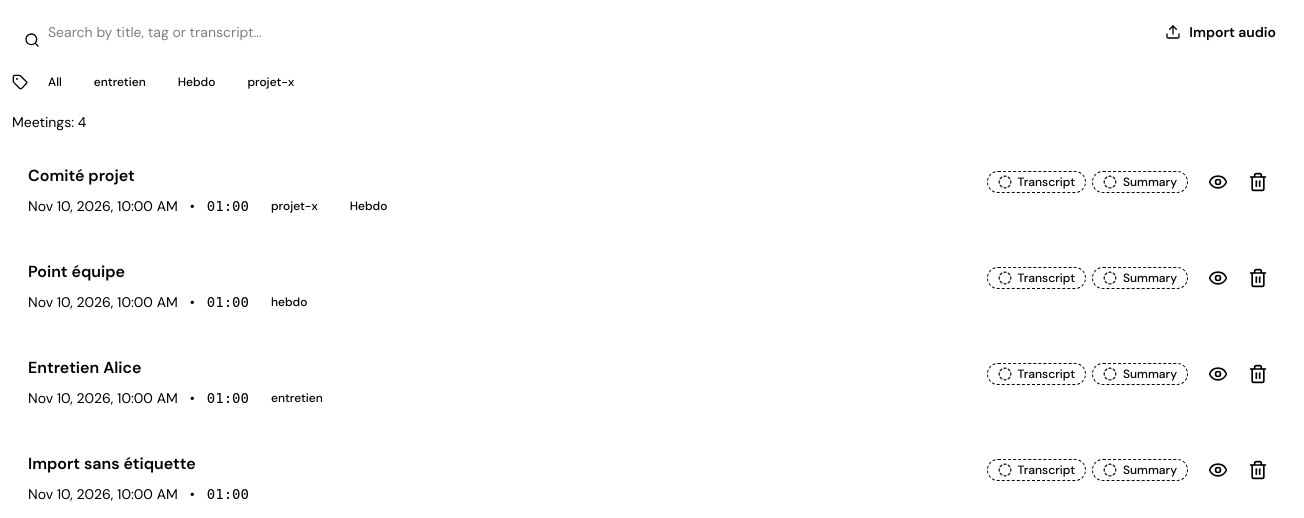
Test: RecordingsTab — étiquettes › se combine avec la recherche ; « Effacer les filtres » remet tout
Click the 1st button "projet-x" at (271, 82), box left=235, top=68, right=306, bottom=96
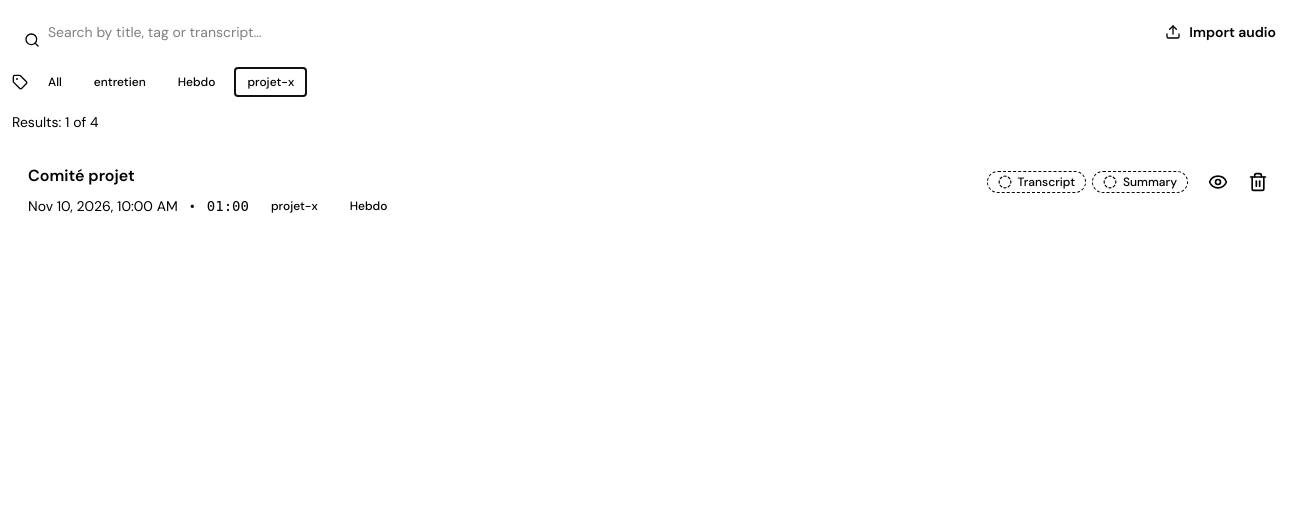
Type "alice" into the search field at (575, 32), box left=12, top=12, right=1137, bottom=52
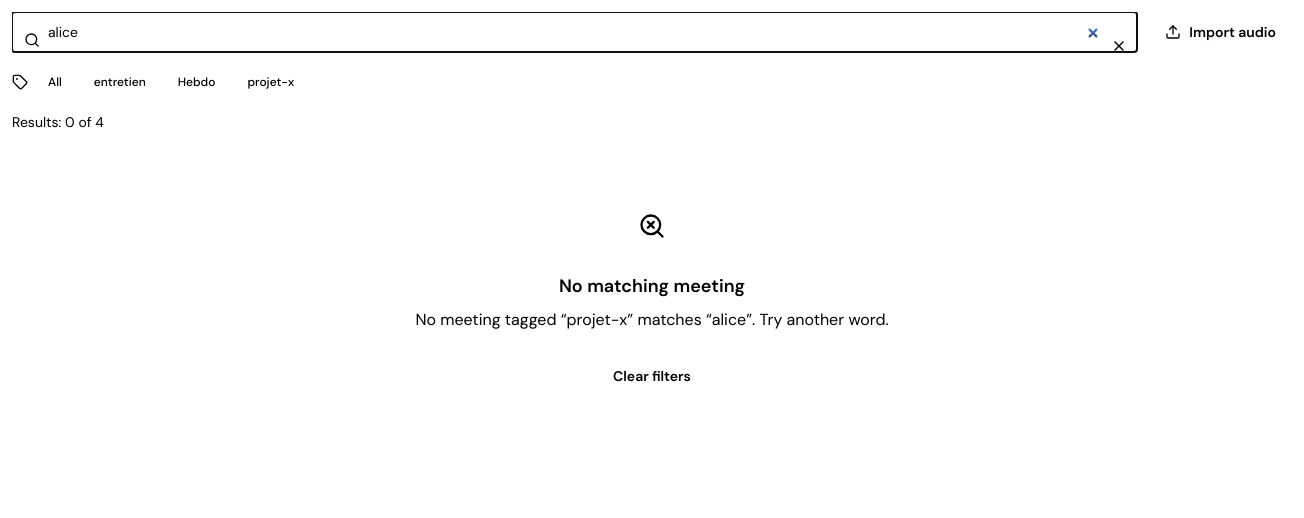
Now the text "No meeting tagged “projet-x” matches “alice”. Try another word." is shown, box left=415, top=309, right=889, bottom=330
Click the button "Clear filters" at (652, 376), box left=597, top=356, right=707, bottom=396
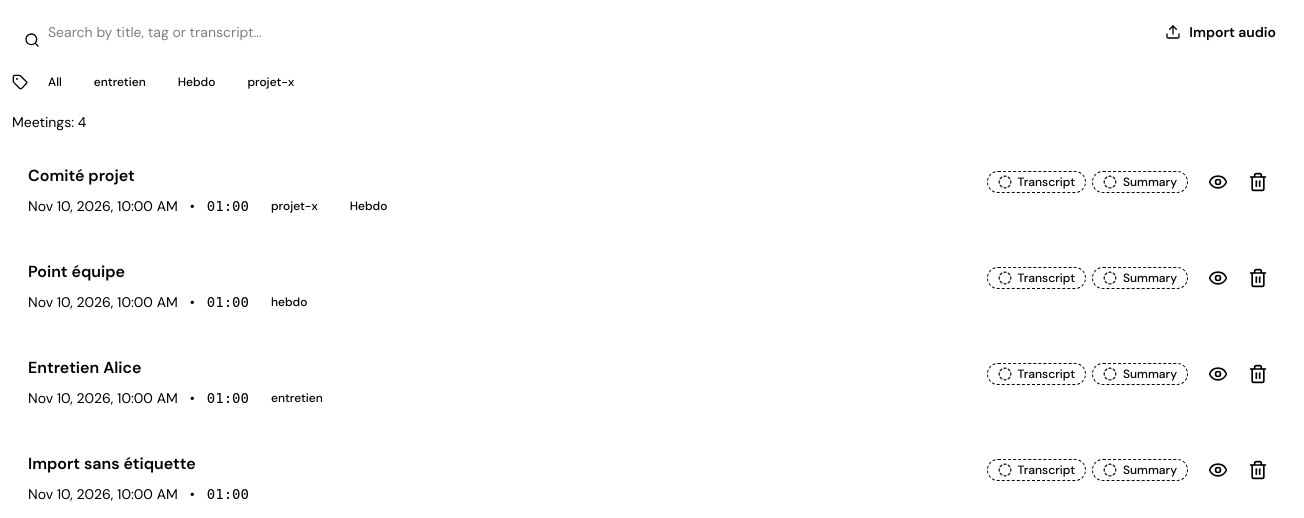
Now the number of headings is 4, box left=28, top=165, right=135, bottom=186; left=28, top=261, right=125, bottom=282; left=28, top=357, right=142, bottom=378; left=28, top=453, right=196, bottom=474
Now the search field is empty, box left=12, top=12, right=1137, bottom=52
